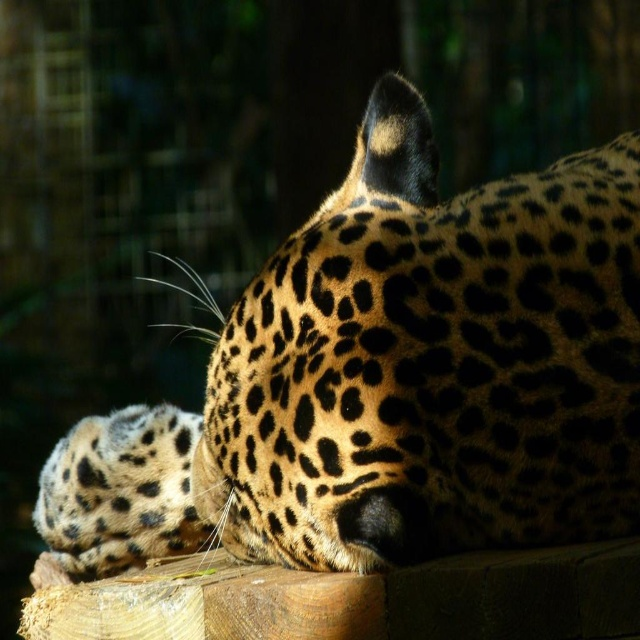Jaguar: (29, 66, 640, 582)
